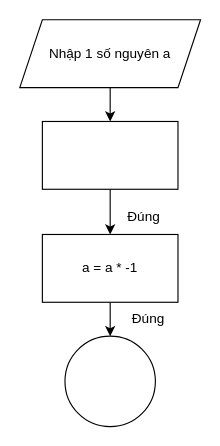
Some shapes in this 220 by 446 pixel diagram are drawn without their labels. Here are the shapes that lost their labels. From the top down, the centre of each, then its label:
At (109,154): "a < 0".
At (109,381): "In ra abs_a".
